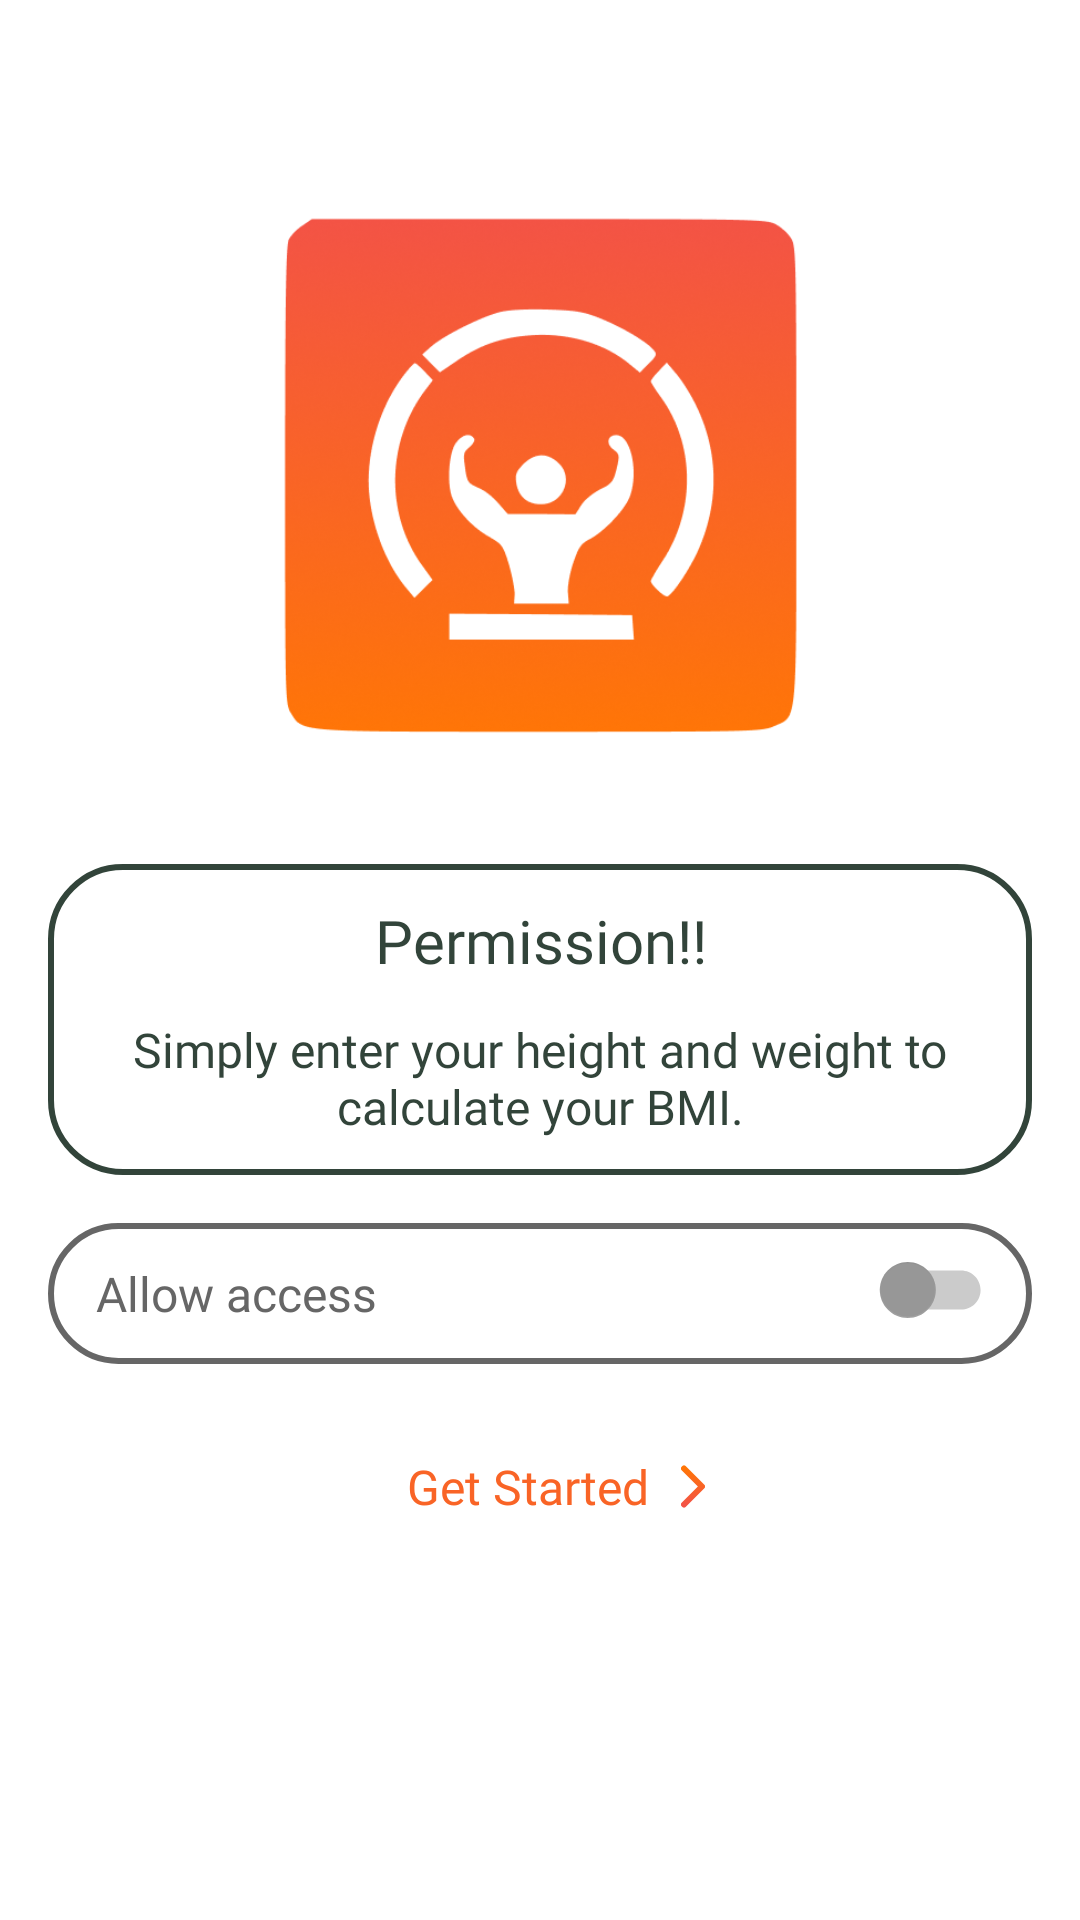

Named icons in this screenshot (1080*1920) and their bounding boxes, box=[x1, y1, x2, y2]:
switch: box=[880, 1262, 981, 1318]
